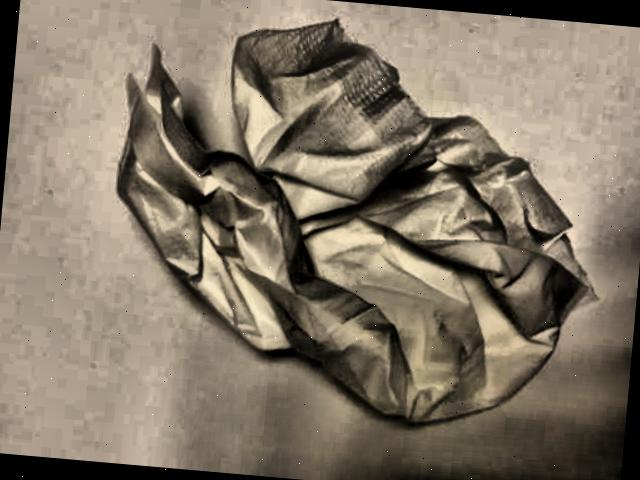Paper: (70, 3, 614, 458)
